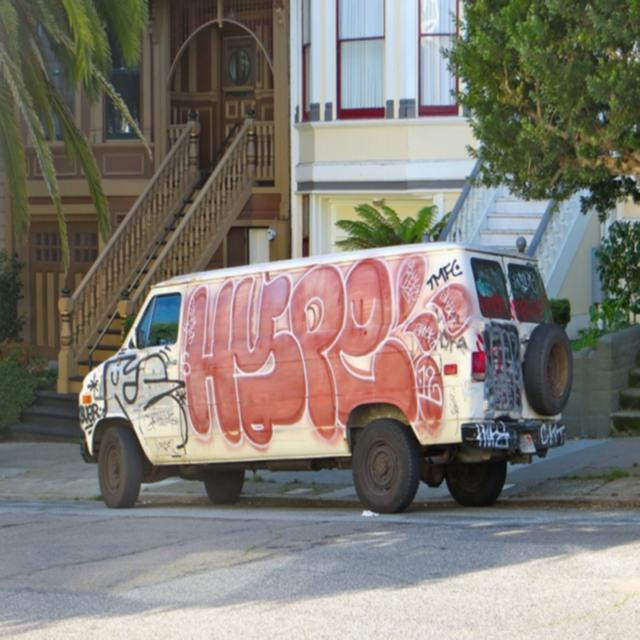truck: (74, 240, 571, 513)
